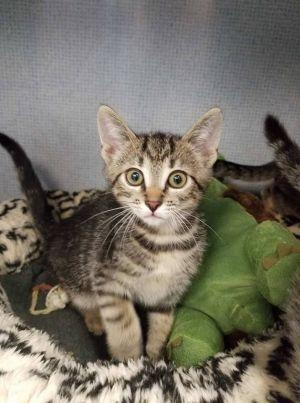bengal: (92, 95, 230, 232)
